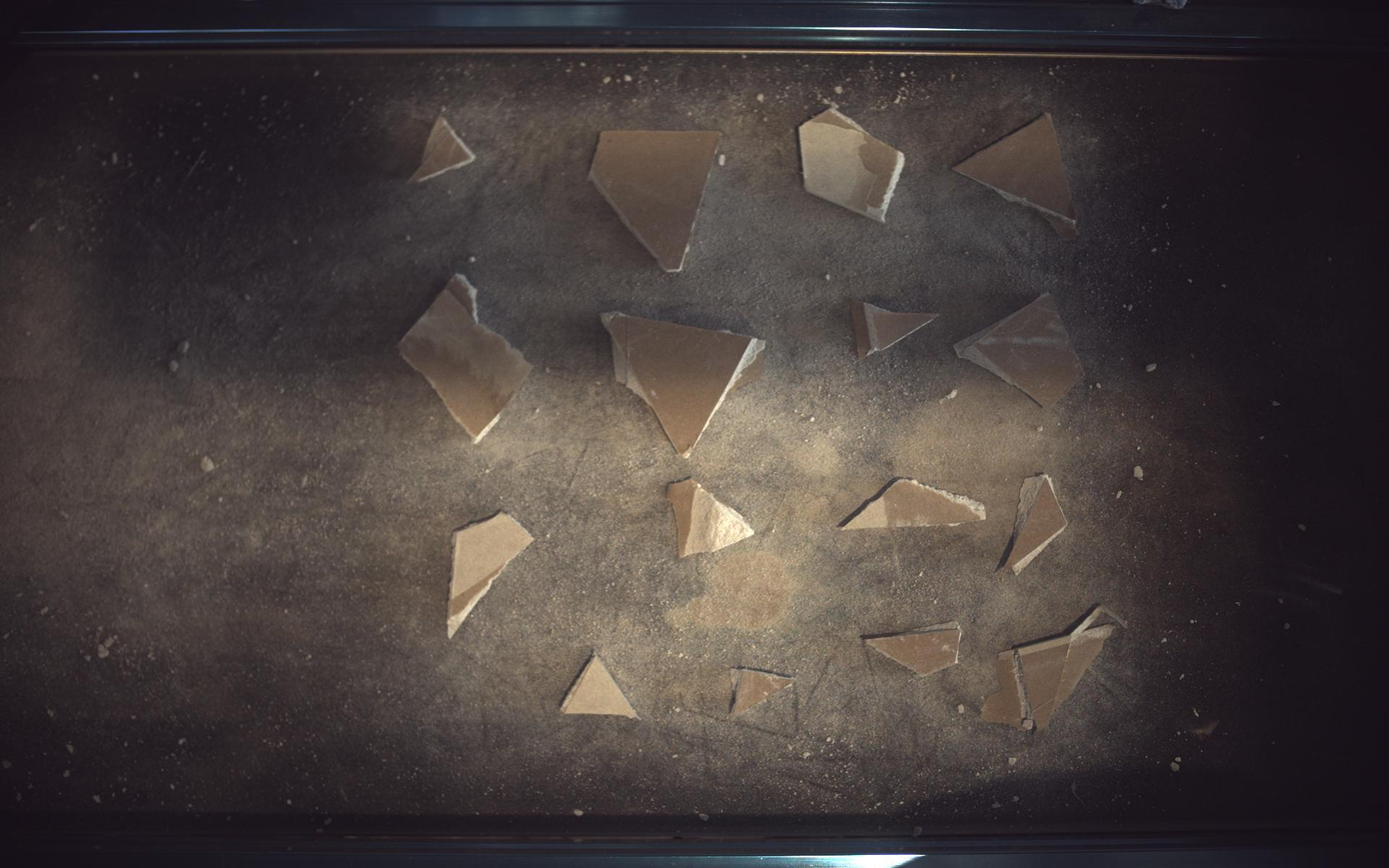gypsum_board: (603, 311, 766, 458), (398, 273, 532, 443), (590, 129, 721, 272), (984, 605, 1129, 733), (956, 113, 1080, 239), (956, 293, 1085, 407), (800, 103, 906, 221), (447, 514, 534, 639), (843, 478, 988, 530), (1001, 474, 1070, 575), (668, 479, 755, 558), (866, 623, 964, 677), (561, 653, 638, 720), (854, 300, 940, 359), (407, 112, 475, 183), (731, 671, 795, 718)
